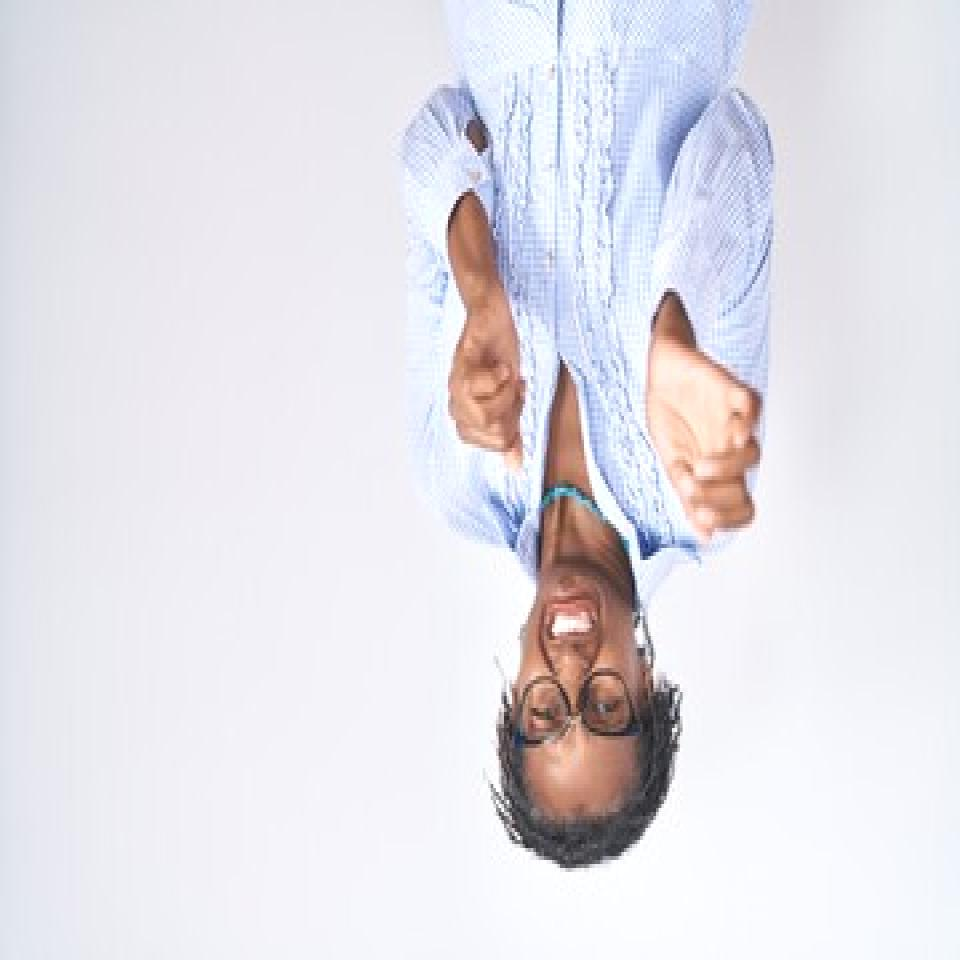Disgust: (518, 571, 644, 770)
